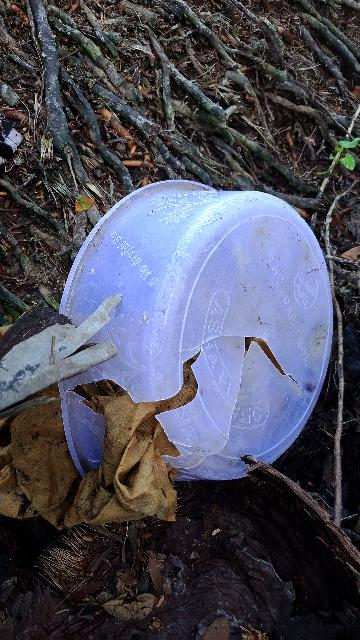hardplastic: (56, 175, 332, 522)
